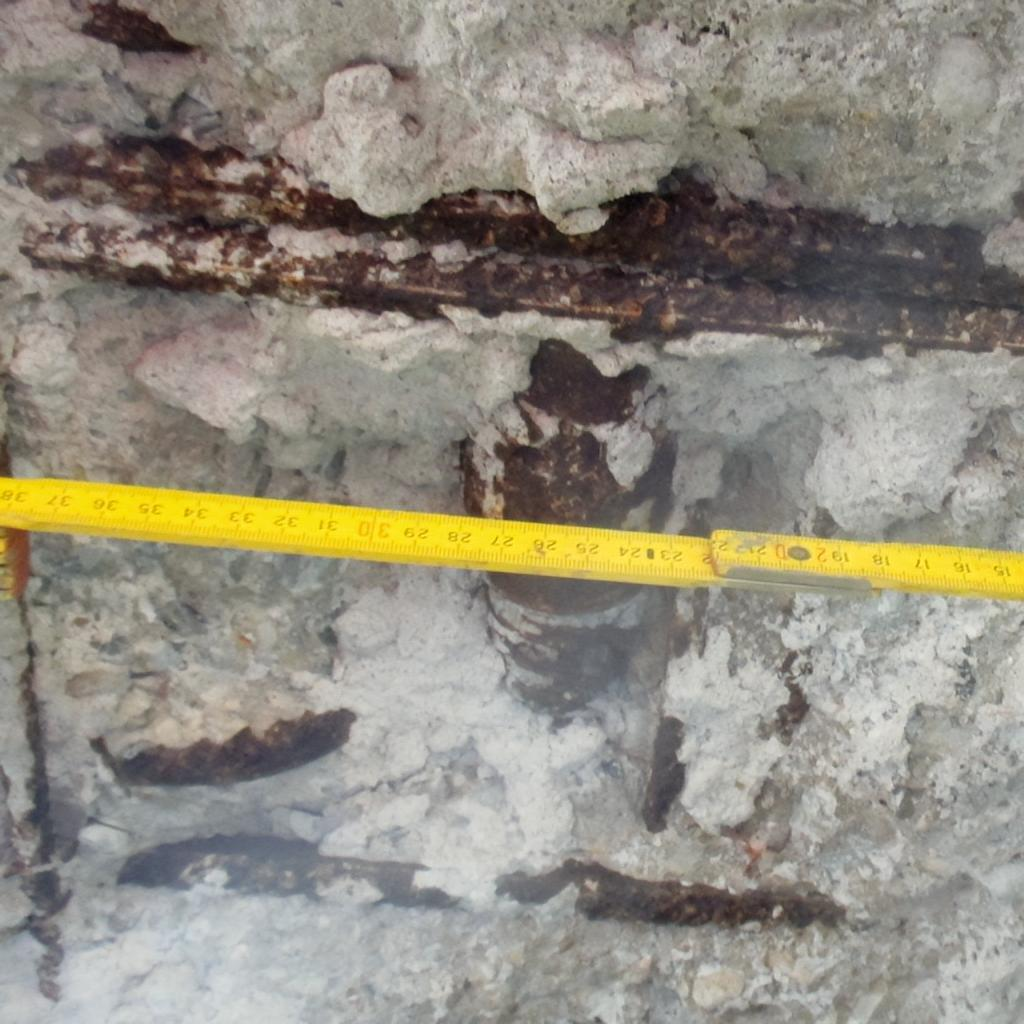exposed_rebar: (12, 136, 1024, 351), (460, 338, 676, 528), (118, 836, 456, 908), (496, 858, 844, 927), (488, 576, 648, 713), (92, 708, 356, 785), (82, 0, 193, 51)
